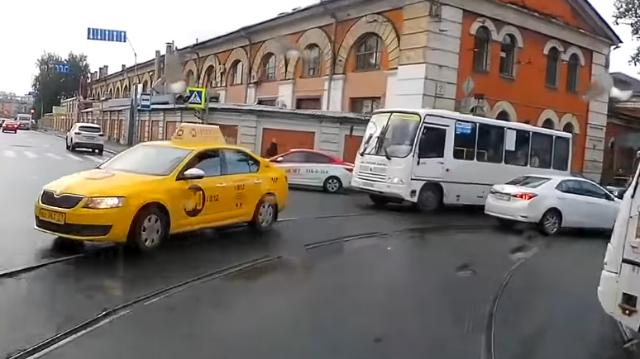non emergency car: (35, 123, 289, 253), (352, 109, 574, 215), (486, 176, 624, 236), (269, 150, 356, 195), (67, 123, 106, 157), (17, 115, 33, 132), (3, 121, 20, 135)
